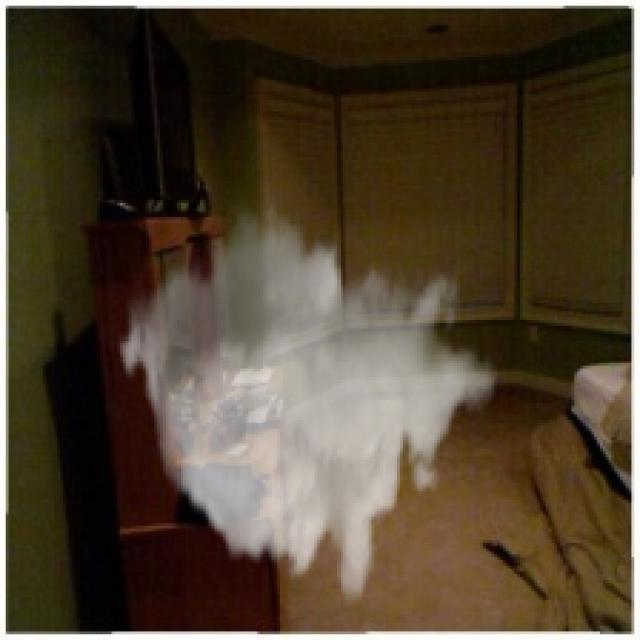Smoke: (114, 197, 497, 609)
